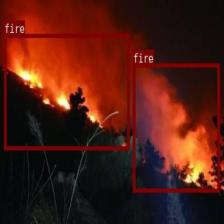fire: (4, 33, 129, 150), (132, 63, 219, 192)
